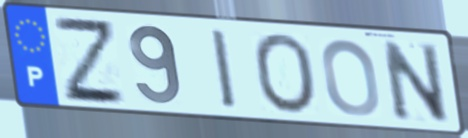9: (126, 22, 185, 107)
I: (207, 26, 240, 112)
N: (378, 37, 452, 124)
O: (250, 31, 320, 116), (319, 37, 383, 119)
Z: (50, 13, 130, 107)
